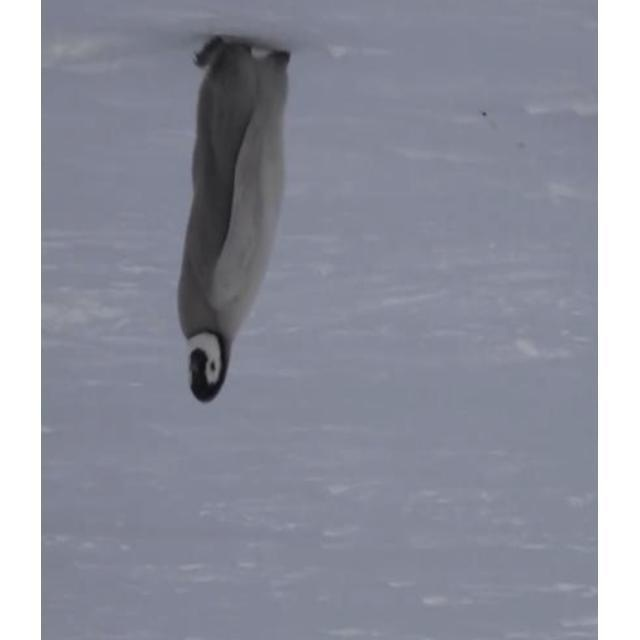penguin: (175, 35, 293, 405)
